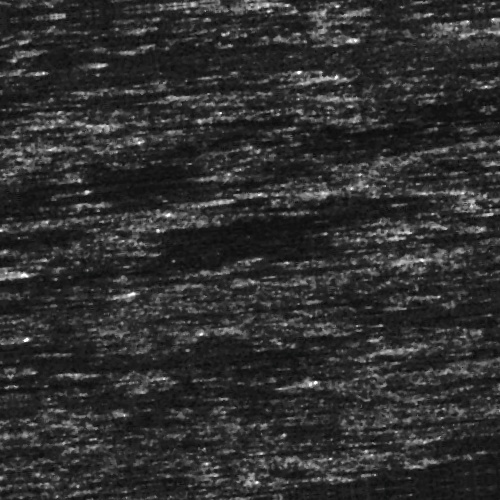object: (0, 487, 100, 500), (202, 0, 307, 12), (349, 265, 442, 278), (284, 78, 377, 89), (256, 377, 329, 390), (66, 276, 171, 285), (126, 84, 219, 93), (359, 447, 432, 458), (93, 363, 166, 372), (320, 44, 383, 51), (17, 352, 80, 359), (380, 308, 453, 313), (0, 1, 19, 12), (315, 101, 346, 106), (66, 172, 107, 175), (0, 224, 15, 231), (0, 315, 21, 320)
shadow: (0, 377, 292, 390), (75, 78, 331, 89), (229, 447, 395, 458), (404, 475, 500, 494), (215, 486, 500, 491), (182, 44, 351, 51), (312, 265, 395, 278), (168, 0, 254, 12), (27, 276, 118, 285), (40, 363, 129, 372), (84, 84, 172, 93), (449, 389, 500, 400), (413, 452, 500, 457), (245, 101, 330, 106), (331, 308, 416, 313), (0, 352, 49, 359), (0, 172, 86, 175)
